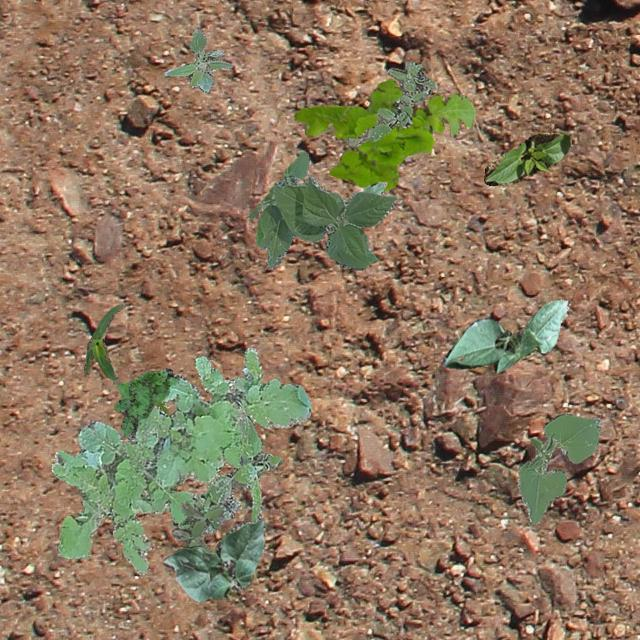crop: (247, 150, 396, 270), (440, 298, 570, 372), (516, 412, 600, 524), (162, 518, 264, 600), (482, 130, 570, 186), (82, 302, 124, 386), (362, 180, 386, 194), (155, 400, 167, 412)
weed: (51, 346, 310, 574), (292, 78, 474, 190), (178, 414, 282, 532), (346, 61, 434, 146), (112, 368, 178, 440), (162, 27, 232, 92), (170, 500, 222, 550)
